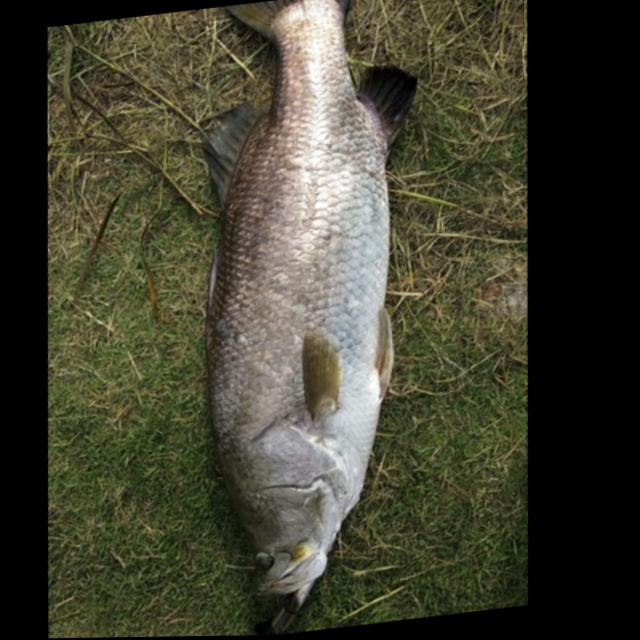Seabass: (138, 0, 482, 626)
